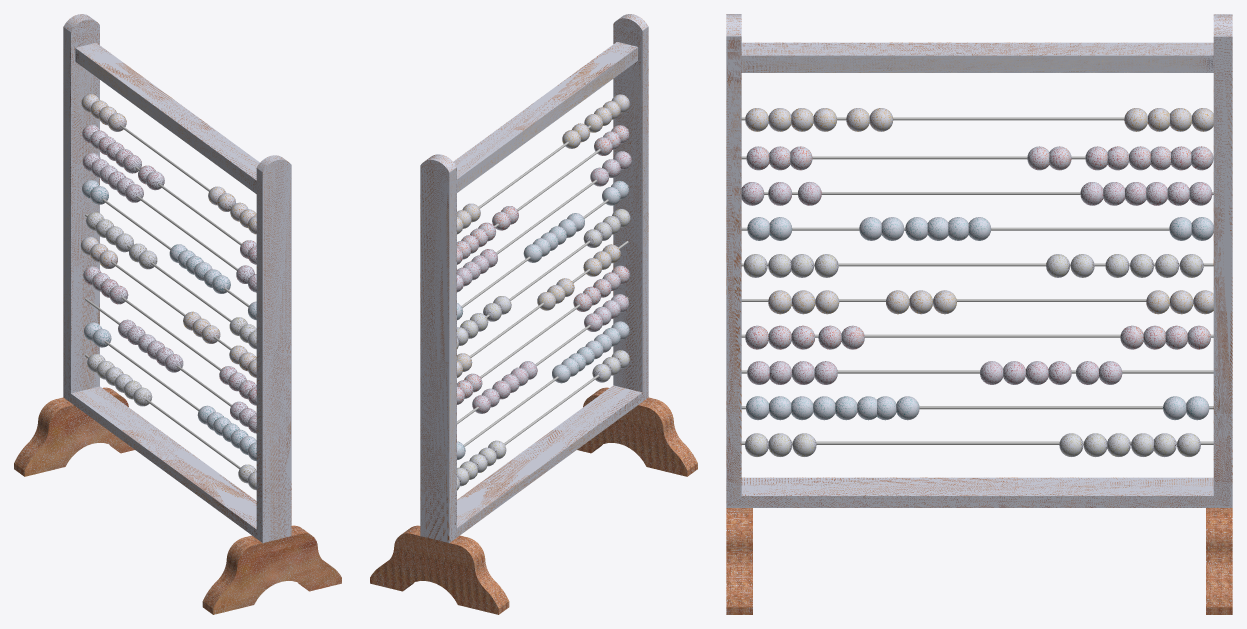
Rendered from avaco.fbx.
The picture shows the model from 3 angles, left to right: view 1: azimuth 30°, elevation 25°; view 2: azimuth 150°, elevation 25°; view 3: azimuth 270°, elevation 25°; orthographic projection. The views are drawn at different scales.
Visible parts, largest first — view 1: group_52.001, group_0, group_52.007, group_85, group_52.005, group_52.003, group_52.002; view 2: group_52.001, group_85, group_52.007, group_0, group_52.005, group_52.003, group_52.002; view 3: group_52.001, group_52.008, group_52.005, group_0, group_85, group_95, group_100, group_91, group_98, group_97, group_48, group_92 (+3 smaller).
Boxes of the visible parts, x1,y1,x2,y2 form: group_52.001: (63, 14, 291, 542); group_0: (202, 525, 341, 614); group_52.007: (63, 27, 256, 538); group_85: (14, 387, 134, 476); group_52.005: (76, 43, 259, 180); group_52.003: (75, 48, 256, 193); group_52.002: (256, 168, 262, 542); group_52.001: (420, 14, 648, 542); group_85: (370, 525, 509, 614); group_52.007: (449, 167, 642, 542); group_0: (577, 387, 697, 476); group_52.005: (453, 42, 637, 178); group_52.003: (457, 47, 637, 192); group_52.002: (642, 26, 648, 401); group_52.001: (726, 14, 1232, 507); group_52.008: (741, 55, 1213, 72); group_52.005: (741, 42, 1213, 55); group_0: (726, 508, 752, 614); group_85: (1206, 508, 1232, 614); group_95: (741, 334, 1213, 337); group_100: (741, 441, 1213, 444); group_91: (741, 227, 1169, 230); group_98: (741, 406, 1213, 409); group_97: (741, 370, 1213, 373); group_48: (741, 117, 1124, 120); group_92: (741, 263, 1213, 266).
Bounding box in the file's own units: 22 × 71.8 × 59.
Materials: 11 (9 with a texture image).
